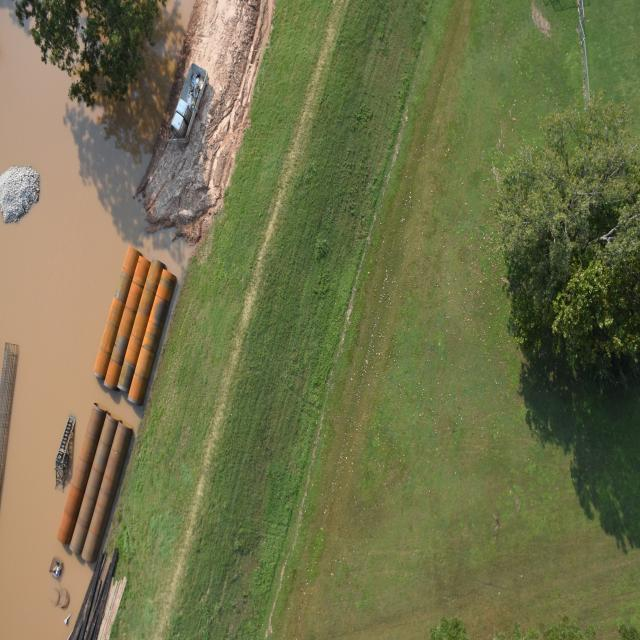fire: (0, 0, 193, 639)
